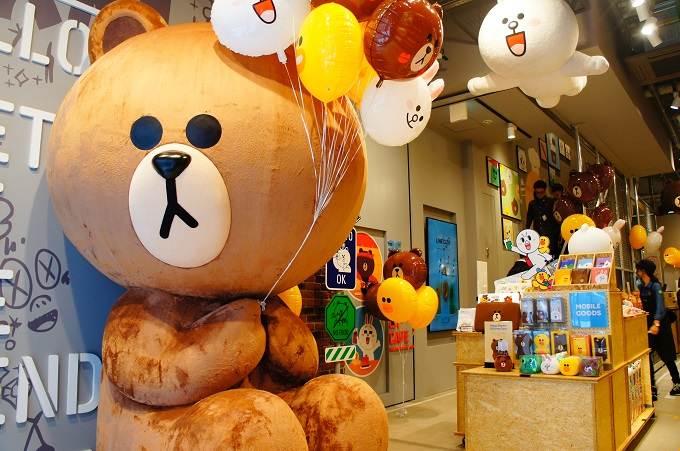line_brown: (41, 1, 370, 304), (381, 242, 430, 296), (563, 166, 604, 206)
